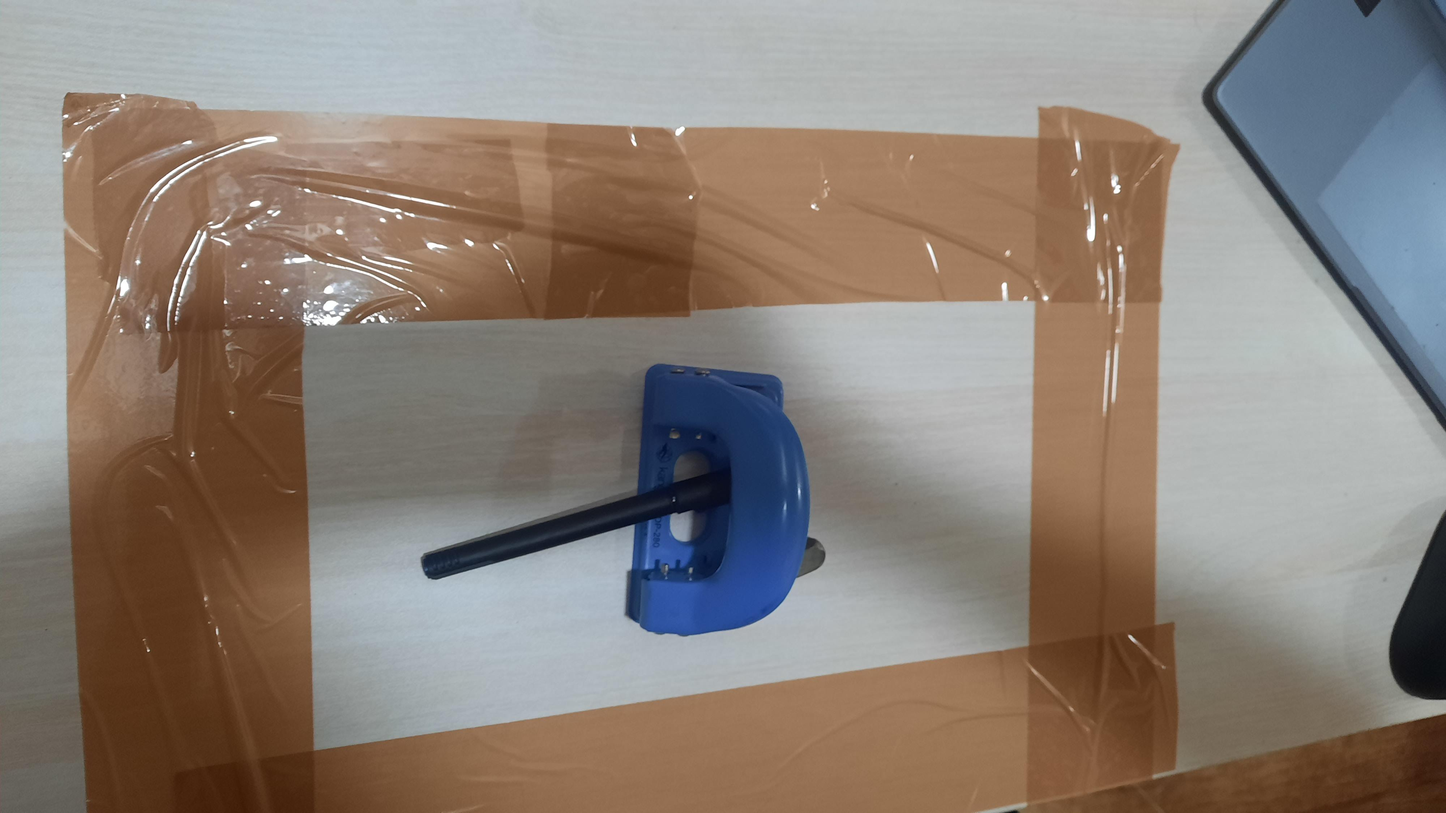Pen: (420, 467, 732, 580)
Punch: (625, 364, 826, 637)
